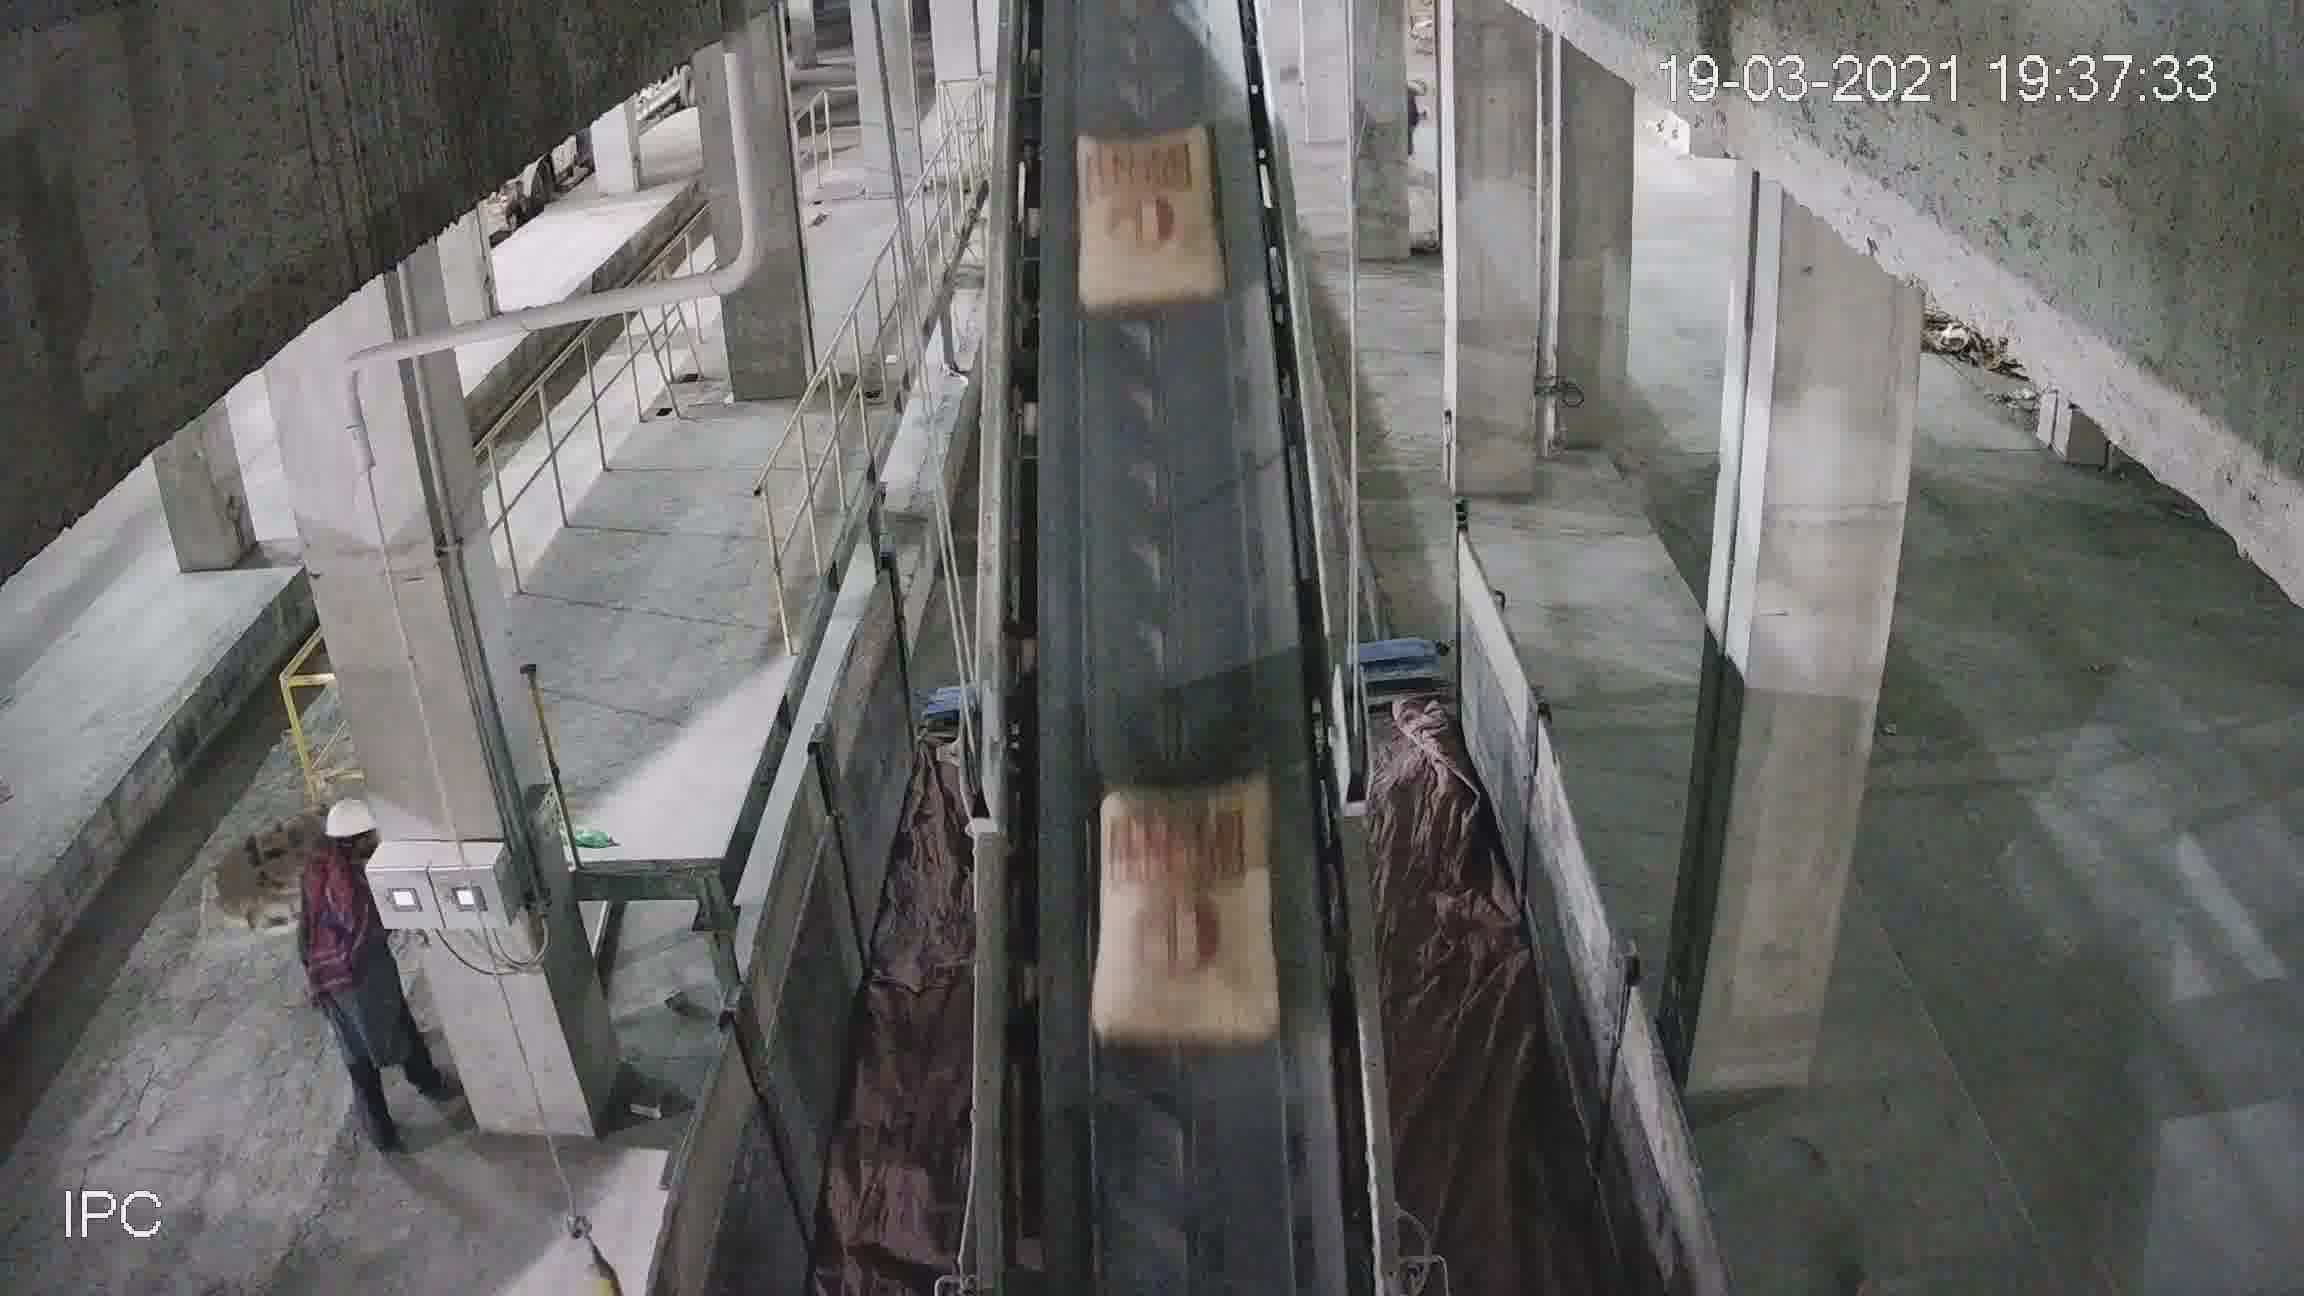bag: (1093, 791, 1279, 1052), (1078, 138, 1220, 304)
belt: (984, 3, 1367, 1173)
